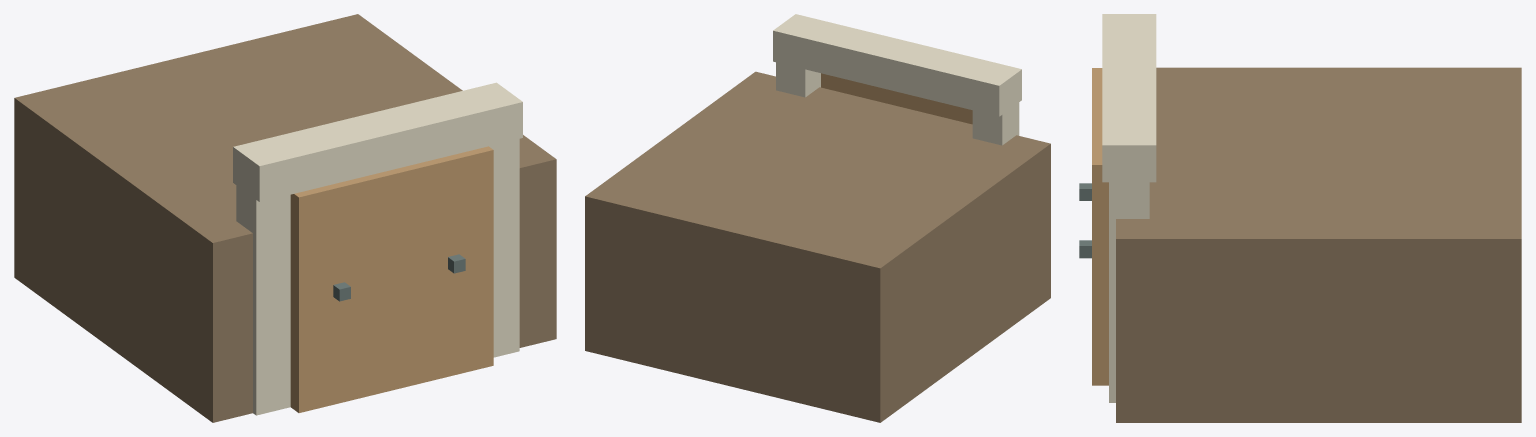
The model's file is cozy-farm-and-homestead-root-cellar-entry-50a49505__19366.glb.
3 renders of one model, left to right at view 1: azimuth 30°, elevation 25°; view 2: azimuth 150°, elevation 25°; view 3: azimuth 270°, elevation 25°, orthographic. The views are drawn at different scales.
Parts seen in each view (by area): view 1: root-cellar-entry_3, root-cellar-entry_1, root-cellar-entry_0, root-cellar-entry_2; view 2: root-cellar-entry_3, root-cellar-entry_0, root-cellar-entry_1; view 3: root-cellar-entry_3, root-cellar-entry_0, root-cellar-entry_1, root-cellar-entry_2.
Part boxes in pixels (box(x1,y1,x2,y2)): root-cellar-entry_3: box(14, 14, 556, 422); root-cellar-entry_1: box(290, 146, 493, 412); root-cellar-entry_0: box(233, 82, 522, 415); root-cellar-entry_2: box(333, 254, 465, 301); root-cellar-entry_3: box(585, 71, 1050, 422); root-cellar-entry_0: box(773, 14, 1021, 145); root-cellar-entry_1: box(821, 73, 972, 124); root-cellar-entry_3: box(1116, 67, 1521, 422); root-cellar-entry_0: box(1102, 14, 1156, 402); root-cellar-entry_1: box(1092, 68, 1108, 385); root-cellar-entry_2: box(1079, 183, 1091, 258).
Bounding box in the file's own units: 3 × 2.1 × 3.27.
